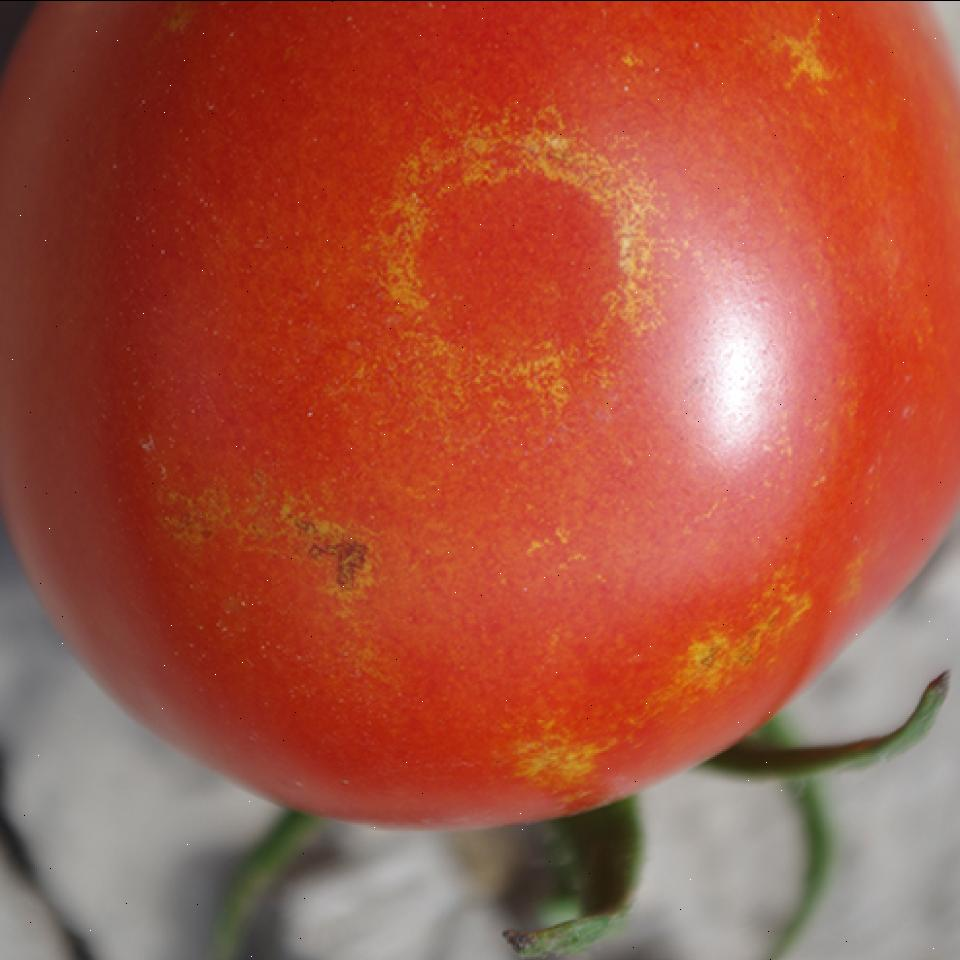Spotted wilt Virus: (0, 0, 960, 824)
